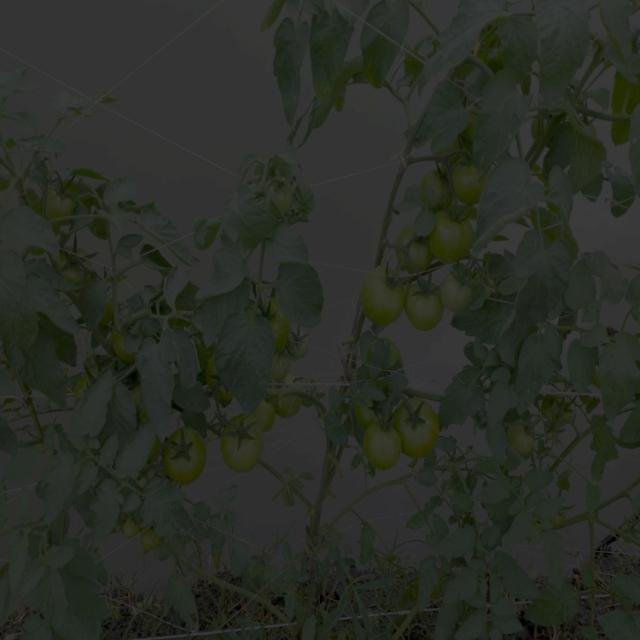tomato: (163, 426, 210, 481), (367, 270, 406, 330), (404, 398, 444, 455), (457, 154, 497, 207), (432, 215, 477, 258), (249, 305, 288, 351), (48, 188, 86, 233), (228, 427, 266, 471), (444, 268, 483, 309), (55, 247, 93, 285), (369, 425, 398, 472), (411, 287, 440, 333), (208, 355, 236, 400), (126, 522, 163, 553), (418, 171, 450, 205), (400, 228, 426, 269), (110, 322, 137, 359), (509, 420, 535, 453), (78, 363, 109, 389), (361, 393, 394, 417), (545, 493, 569, 525), (249, 400, 279, 425), (279, 393, 307, 417), (104, 283, 119, 322), (291, 331, 310, 360), (272, 358, 291, 381), (553, 400, 577, 418)
